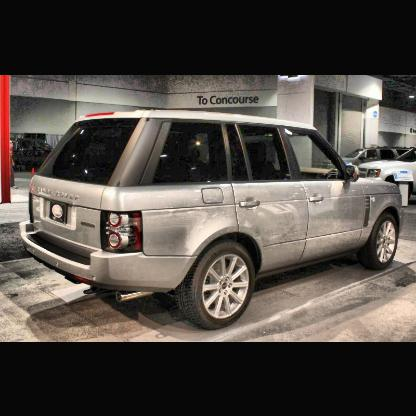Land Rover Range Rover SUV 2012: (22, 109, 403, 332)
